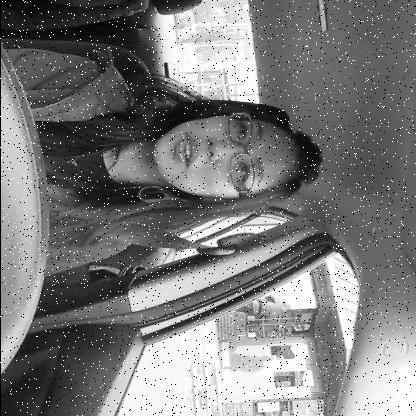seatbelt: (25, 98, 340, 258)
